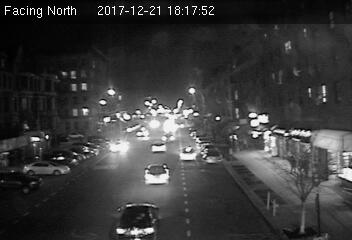car: (114, 202, 159, 240), (144, 163, 169, 184), (200, 148, 222, 164), (109, 140, 131, 154), (179, 146, 197, 161), (150, 141, 167, 153)
